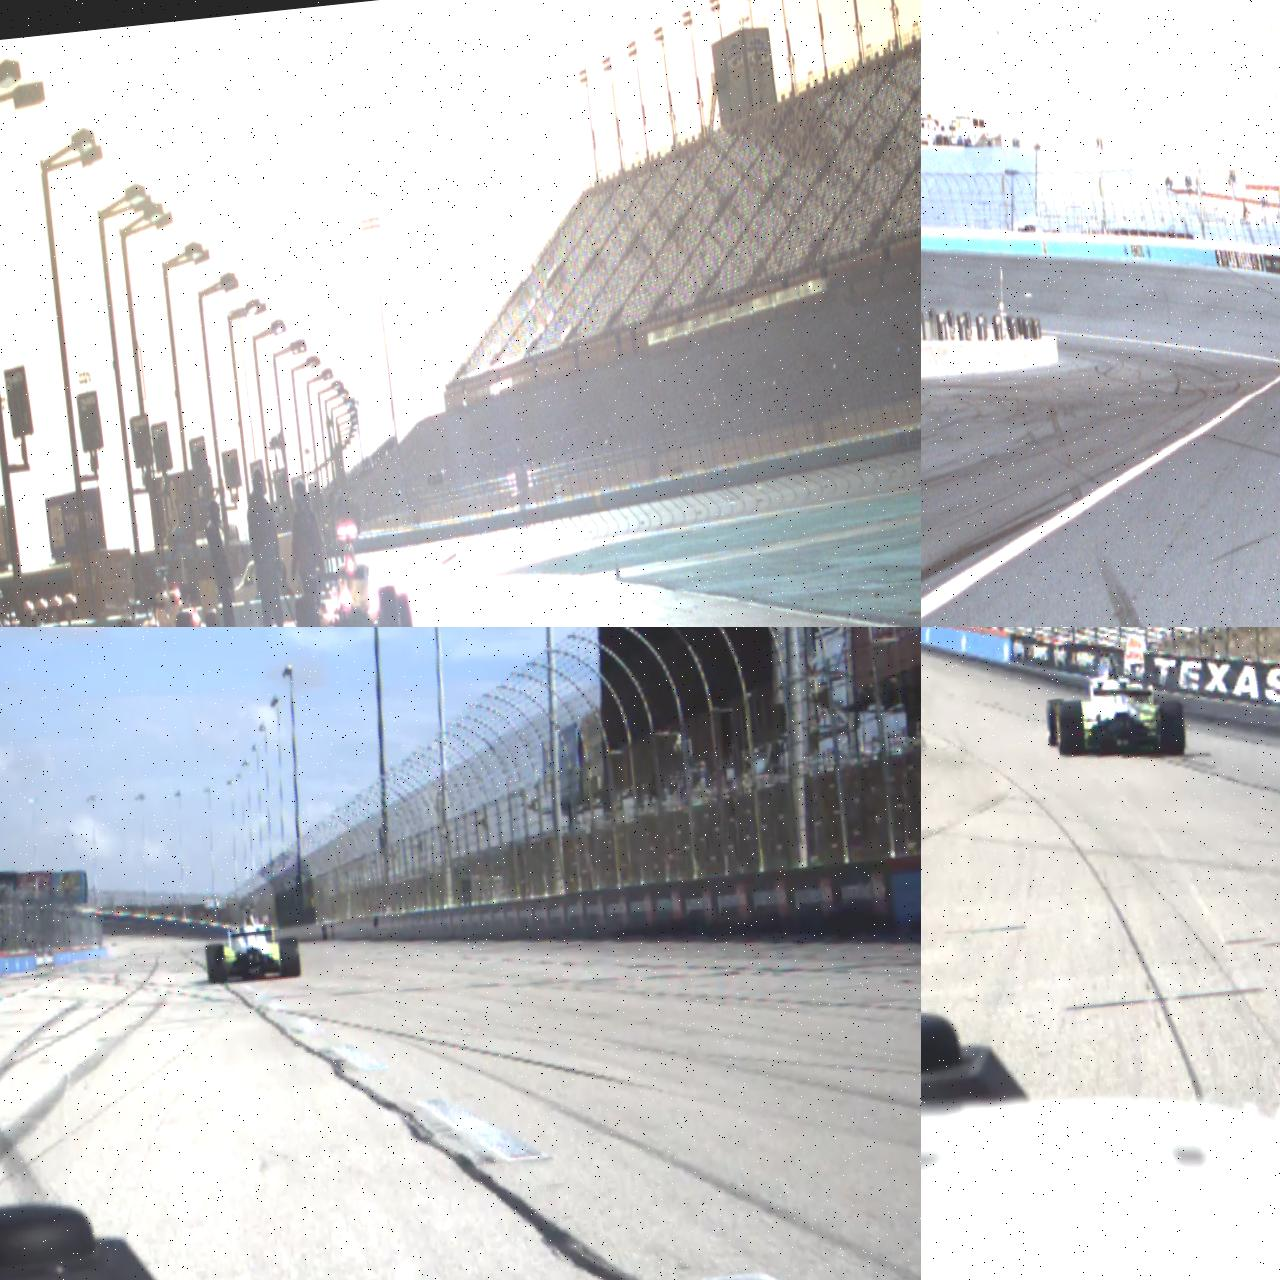AV: (1040, 639, 1189, 768), (288, 517, 417, 627), (200, 899, 302, 986), (111, 561, 224, 627)
Wheel: (1055, 700, 1088, 758), (1157, 700, 1187, 756), (377, 584, 406, 627), (1046, 699, 1068, 748), (294, 594, 324, 627), (278, 937, 301, 978), (206, 944, 229, 985), (396, 592, 416, 627), (175, 611, 199, 627), (204, 610, 223, 627)
